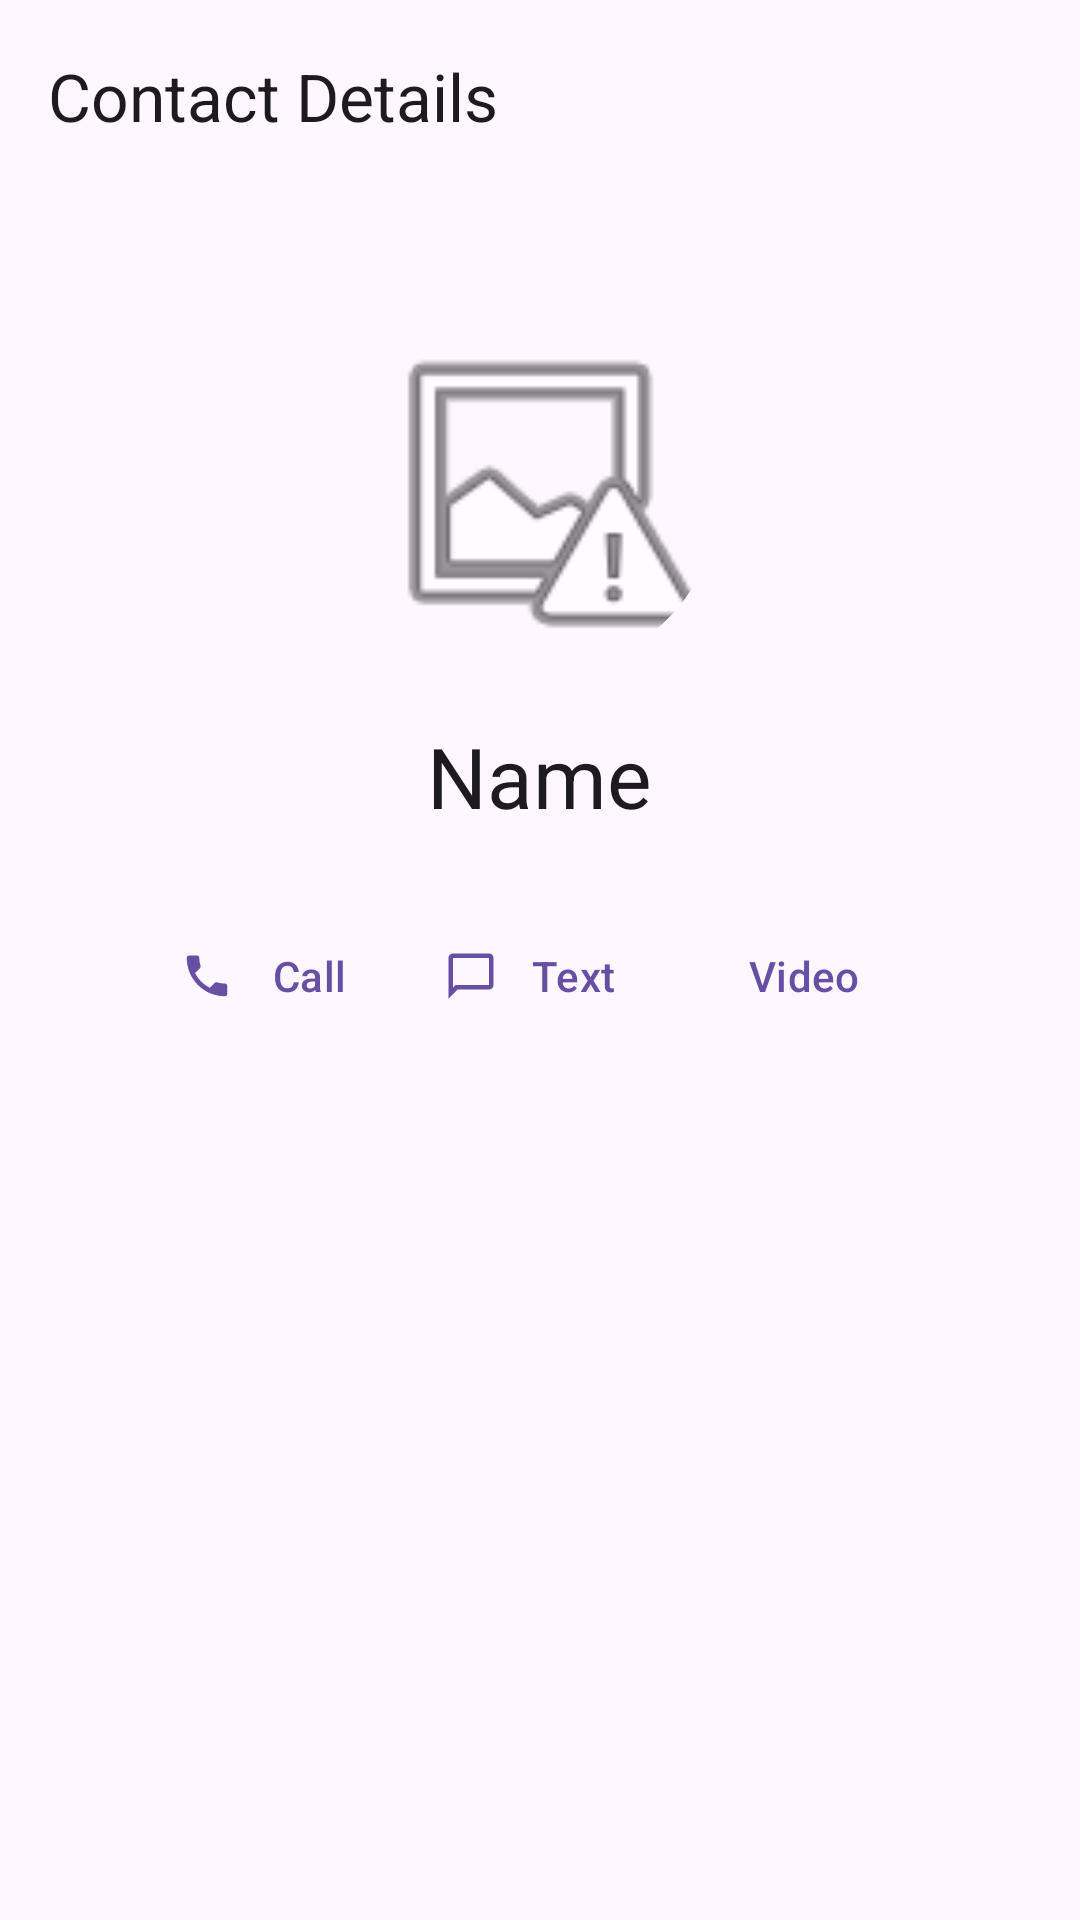

Icon click points for this 1080 x 1920 phone screenshot, format [x,y]:
report: [549,494]
